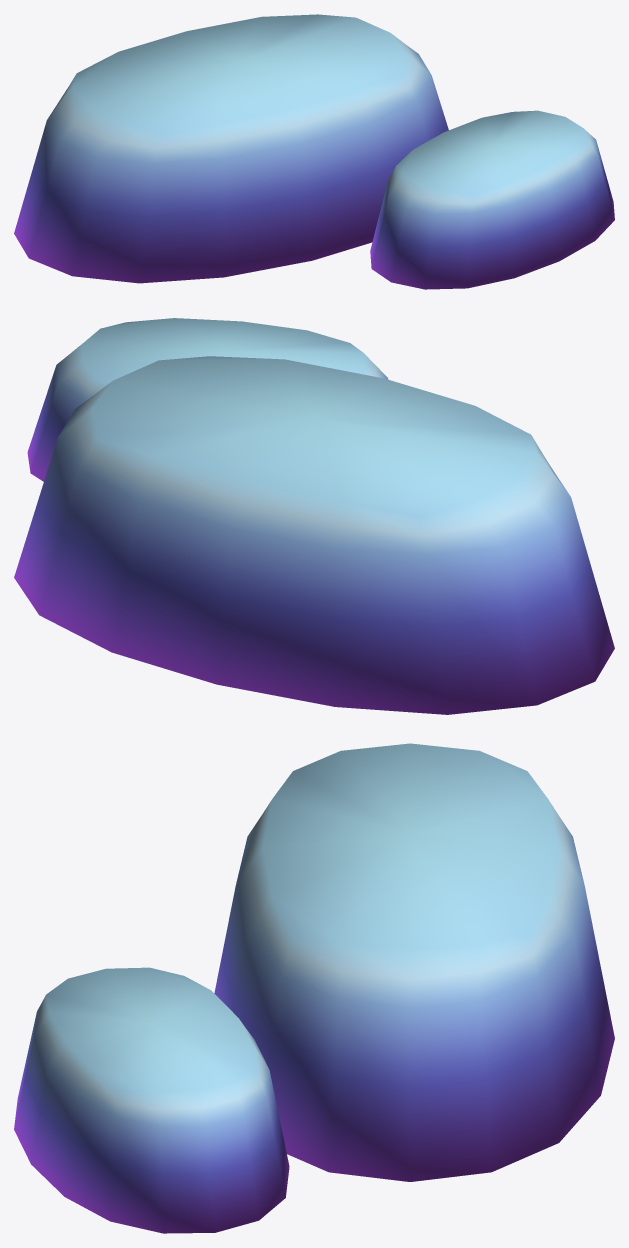
The model's file is Rocks_3.fbx.
3 views of the same model, one above another, from view 1: azimuth 30°, elevation 25°; view 2: azimuth 150°, elevation 25°; view 3: azimuth 270°, elevation 25° (orthographic). The views are drawn at different scales.
Parts seen in each view (by area): view 1: Rocks_3; view 2: Rocks_3; view 3: Rocks_3.
Part boxes in pixels (x1=…): Rocks_3: x1=14, y1=14, x2=614, y2=289; Rocks_3: x1=14, y1=318, x2=614, y2=714; Rocks_3: x1=14, y1=743, x2=614, y2=1233.
Bounding box in the file's own units: 0.1801 × 0.6416 × 0.4813.
